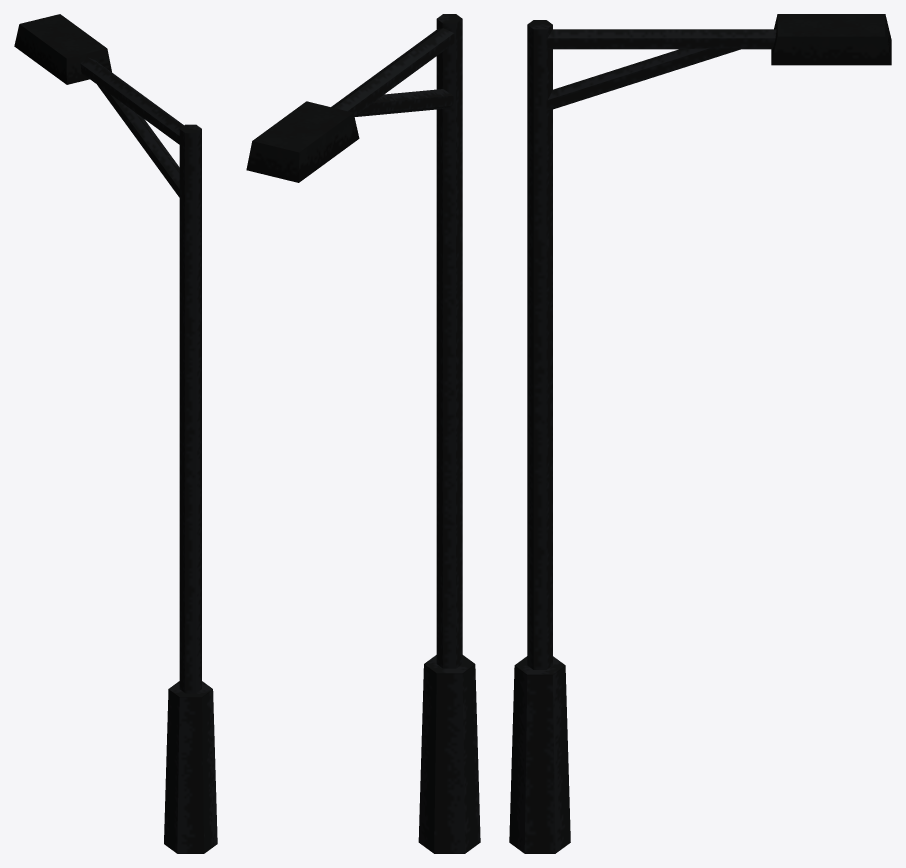
File: ExportedBlenderFBXFile.fbx
3 views of the same model, side by side, from view 1: azimuth 30°, elevation 25°; view 2: azimuth 150°, elevation 25°; view 3: azimuth 270°, elevation 25° (orthographic). The views are drawn at different scales.
Visible parts, largest first — view 1: StreetLamp; view 2: StreetLamp; view 3: StreetLamp.
Boxes of the visible parts, x1,y1,x2,y2 form: StreetLamp: (14,14,217,853); StreetLamp: (246,14,480,853); StreetLamp: (509,14,891,853).
Bounding box in the file's own units: 0.2332 × 3.5 × 1.48.
